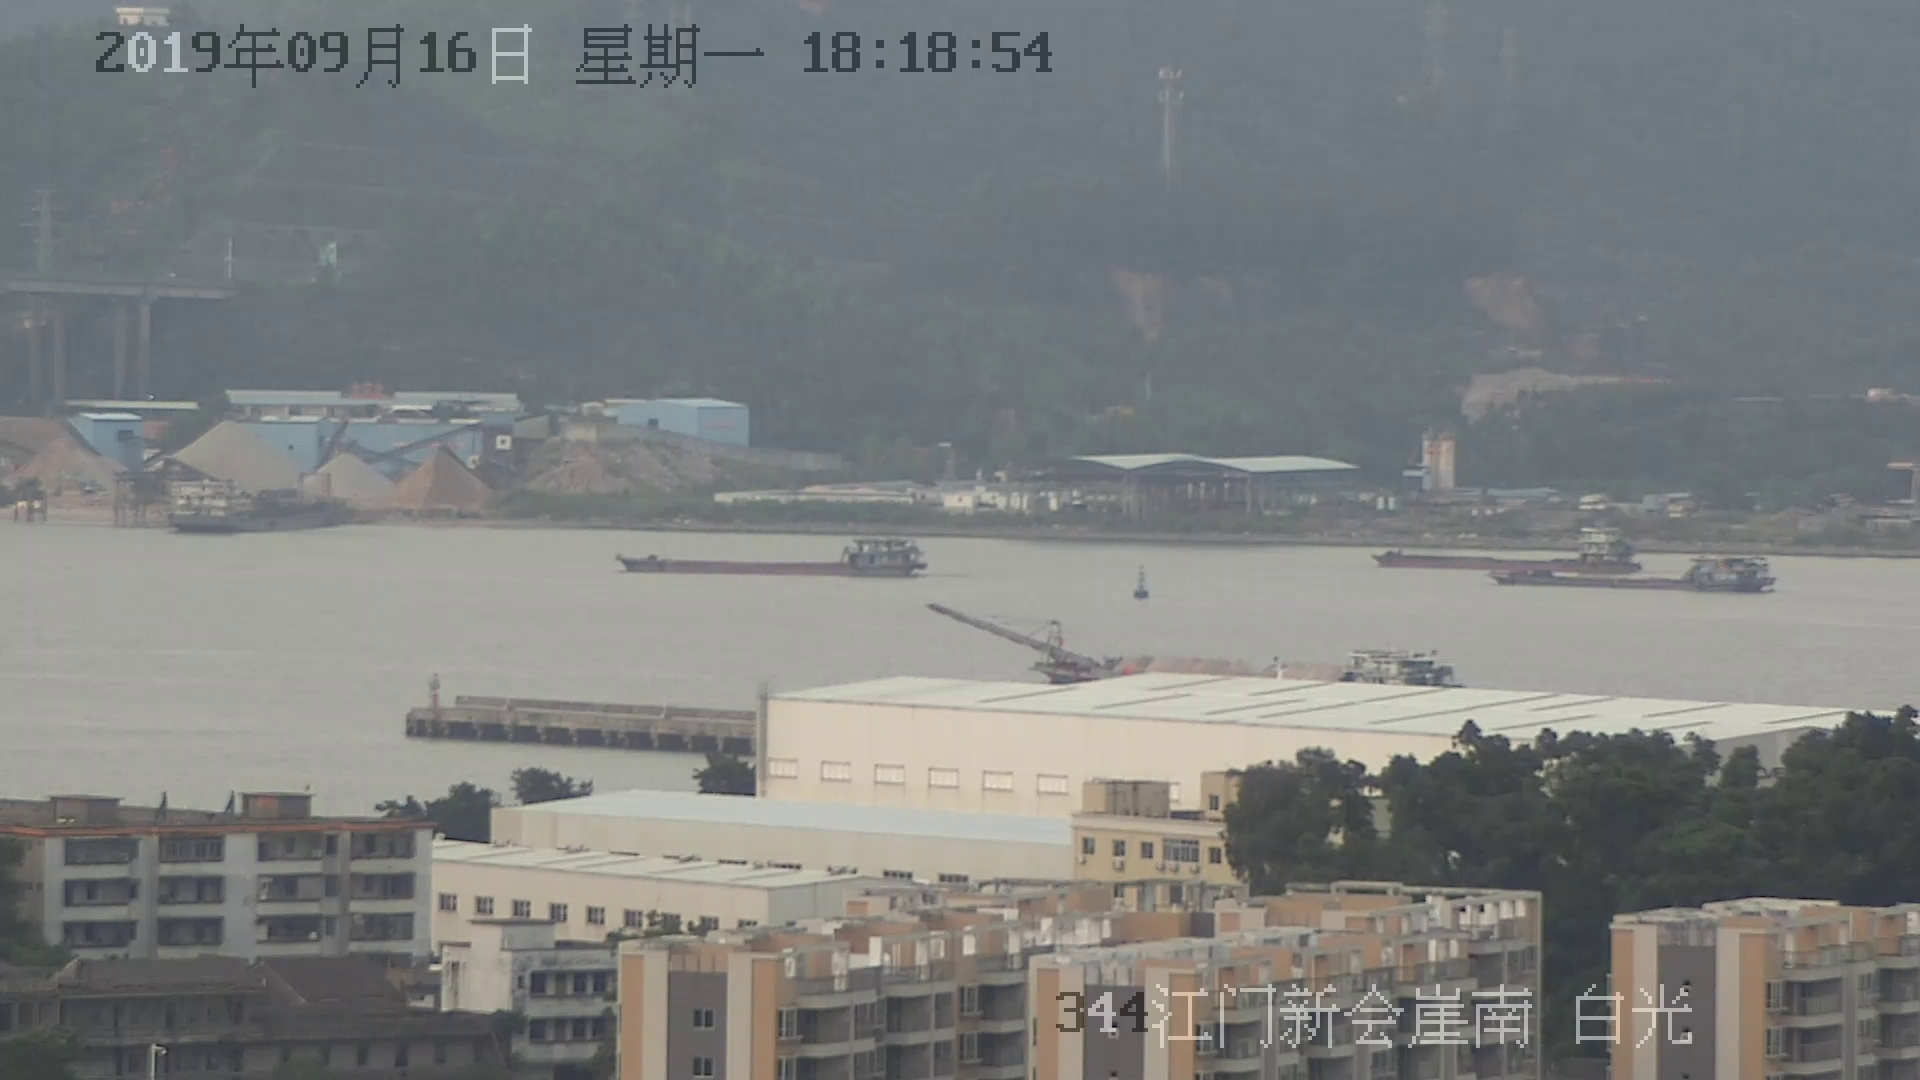ship: (618, 538, 924, 578), (1486, 553, 1774, 593), (1375, 541, 1630, 574)
